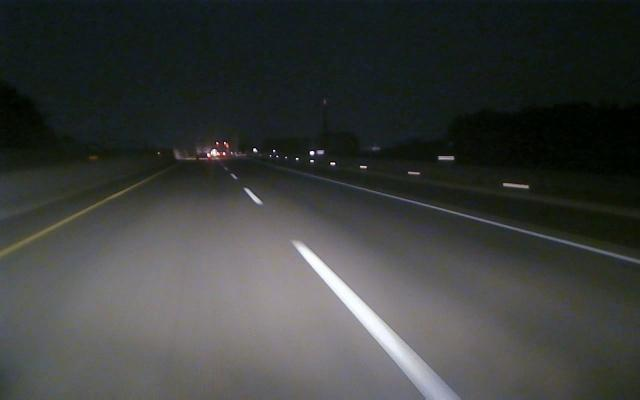lane: (239, 179, 459, 399), (346, 183, 638, 265), (1, 191, 125, 257)
